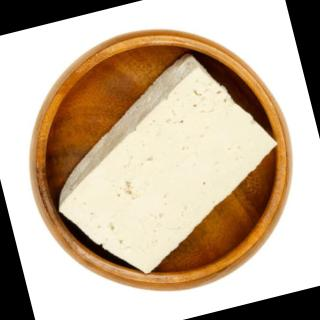Tahu: (45, 50, 288, 284)
